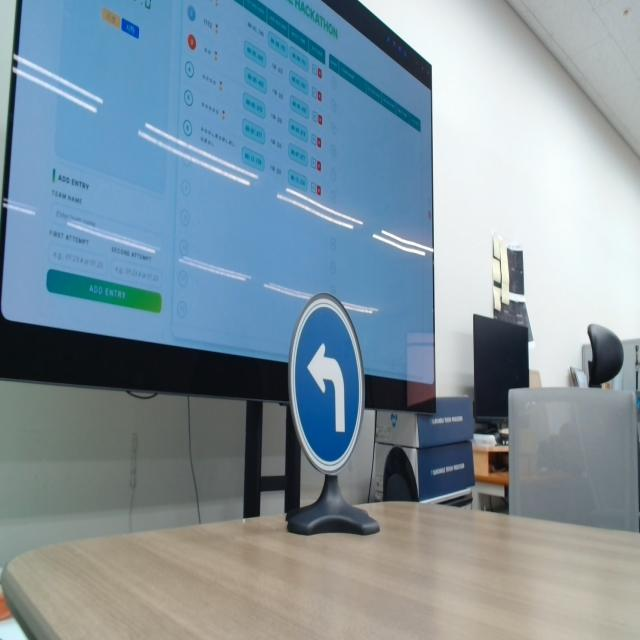left_direction: (286, 287, 364, 484)
